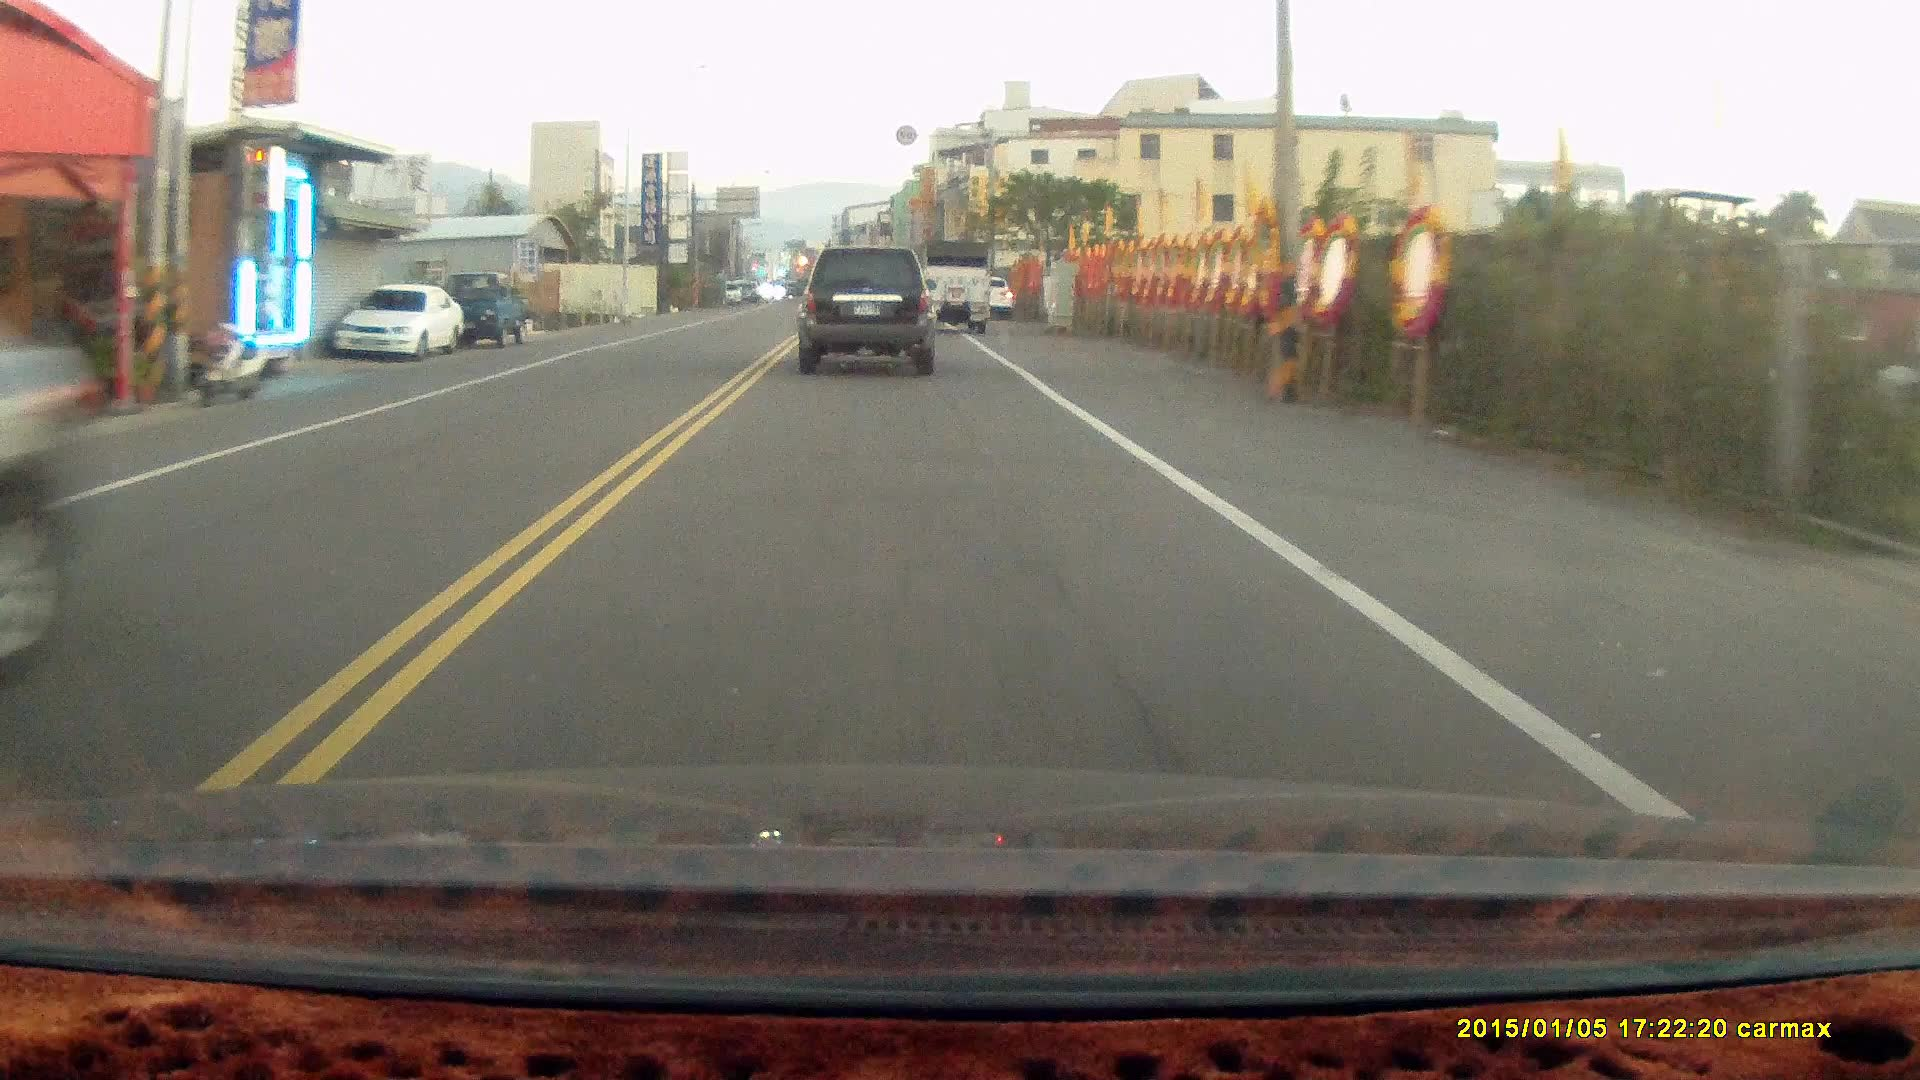vehicle: (800, 247, 942, 378), (336, 286, 467, 367), (442, 272, 535, 352), (923, 239, 994, 338)
